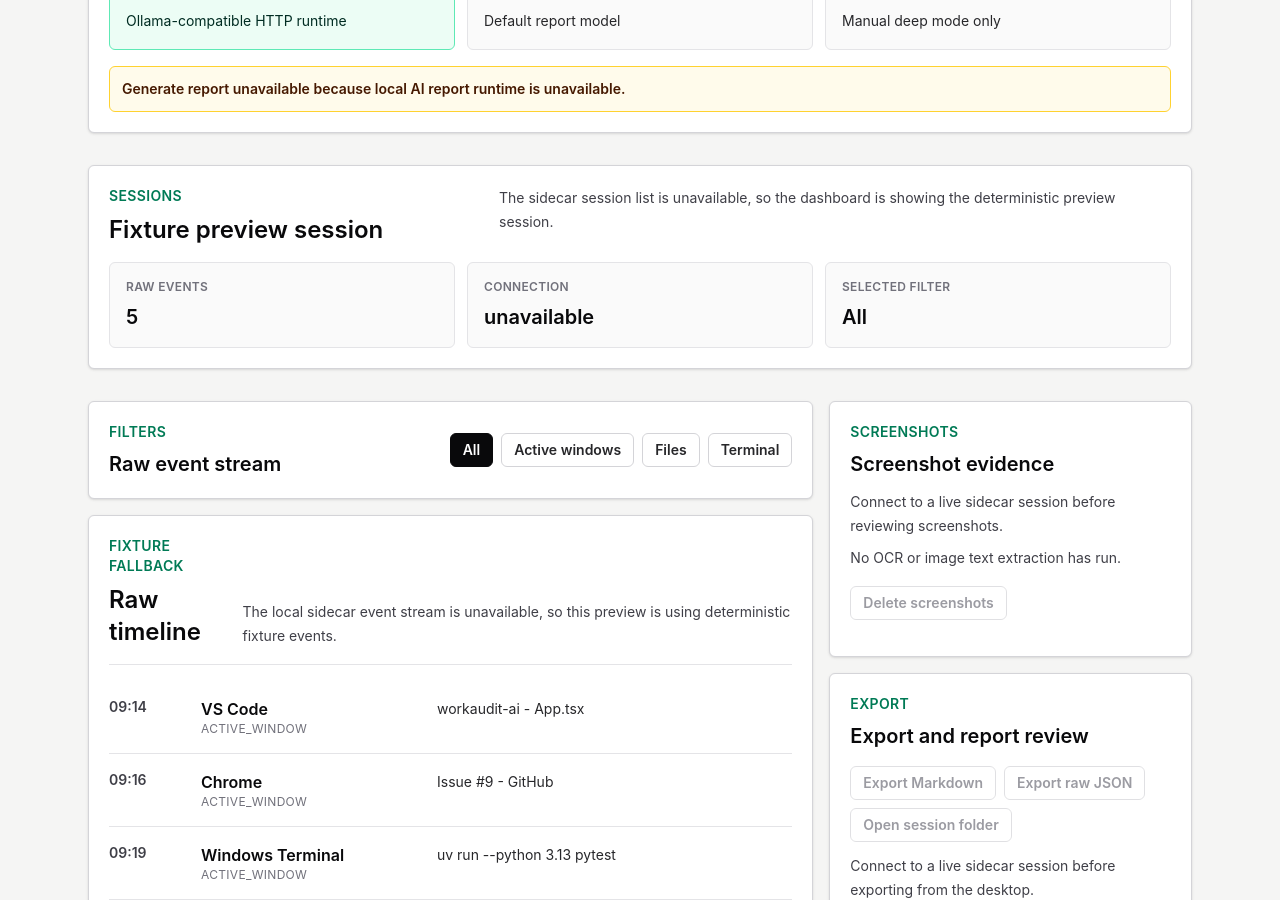
Scenario: filters live raw timeline events by source
The image size is (1280, 900).
(page scrolled)
Click the button "Terminal": [750, 450] box [708,433,792,467]
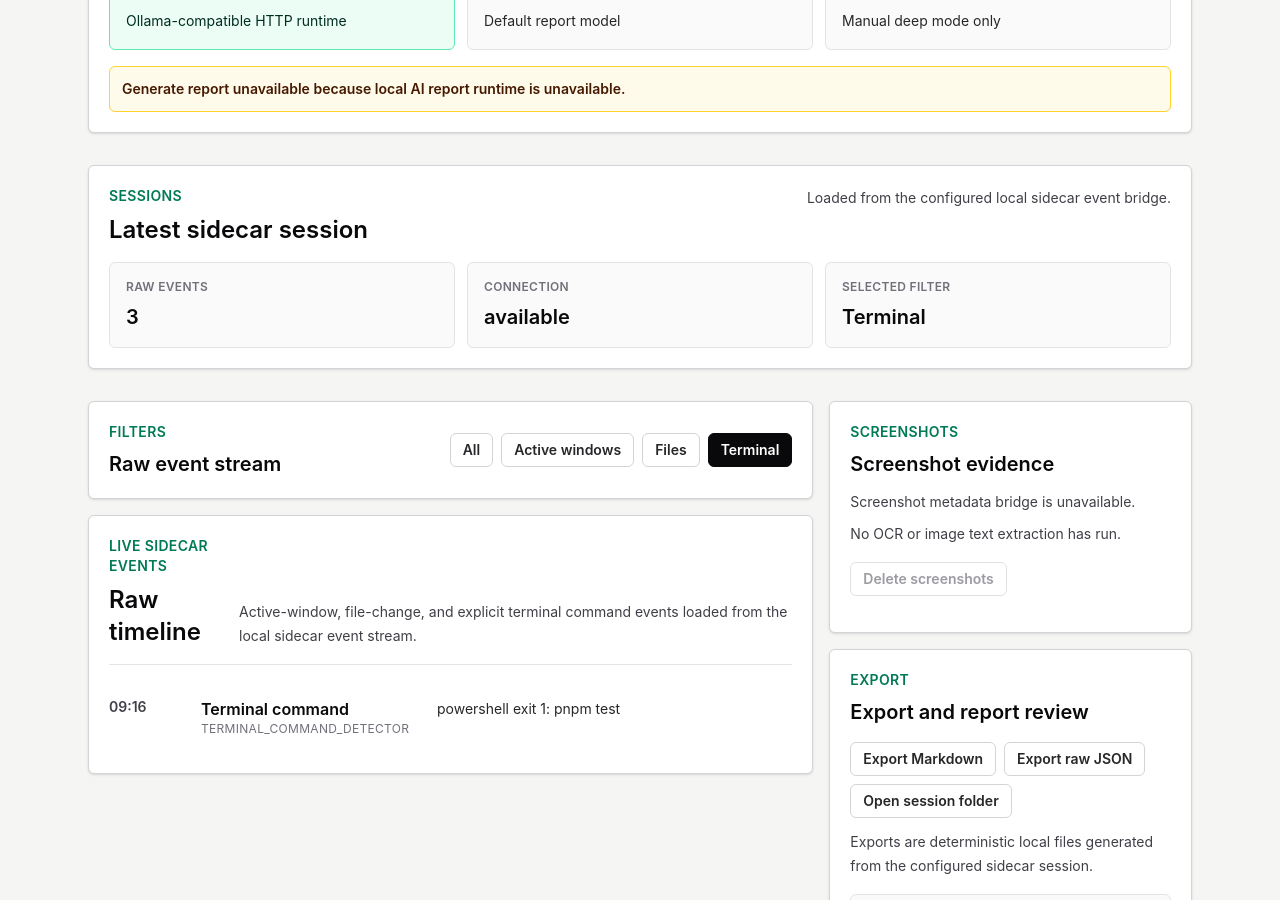
Expected: the list item shows "Terminal command", [201,699,349,719]
Expected: the text "VS Code" is gone
